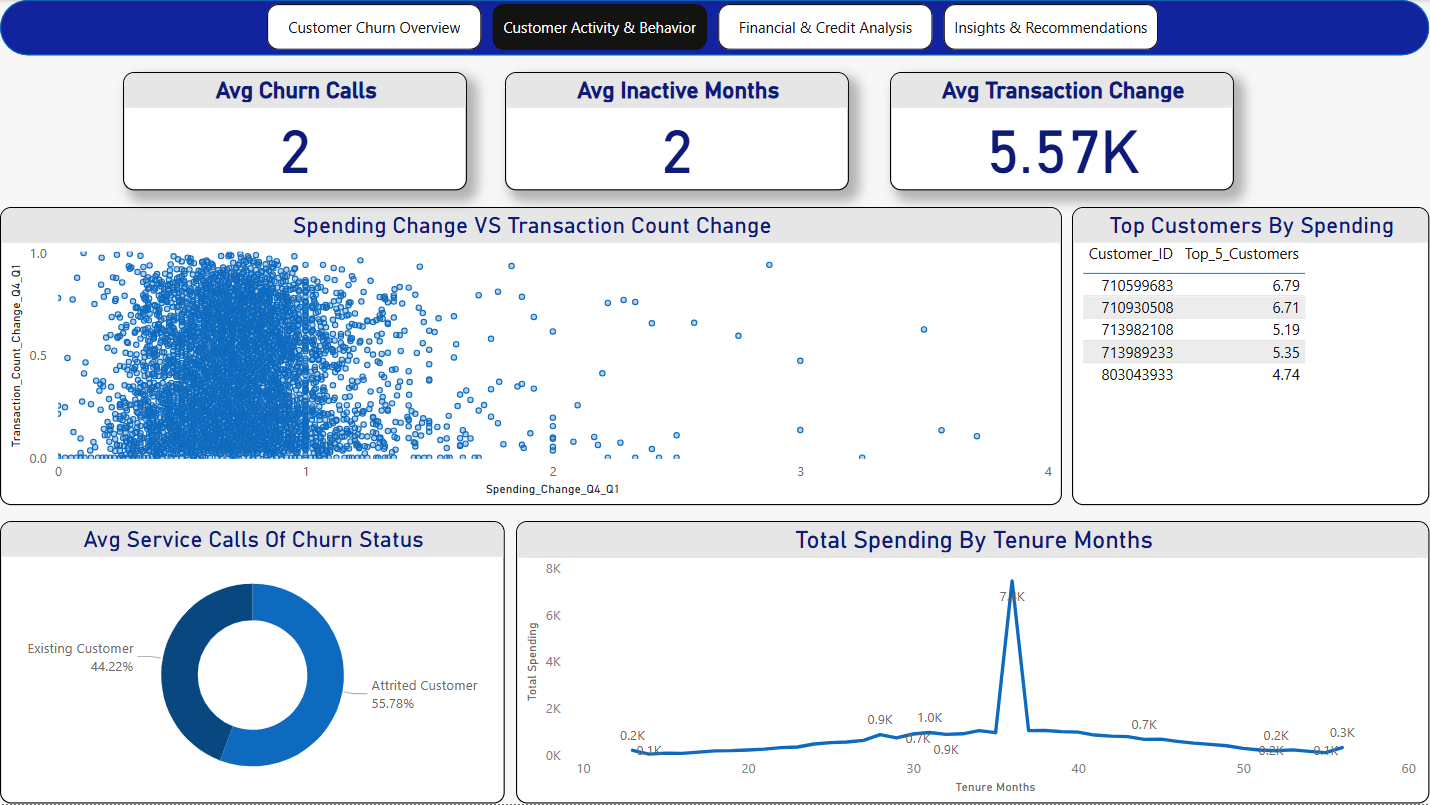

What the dashboard file says about the page in this screenshot:
{"tool":"powerbi","page":{"name":"Customer Activity & Behavior","canvas":[1280,720],"ordinal":1},"visuals":[{"type":"lineChart","title":"Total Spending By Tenure Months","fields":{"Y":["Avg(Tenure_Spending_View.Total_Spending)"],"Category":["Tenure_Spending_View.Tenure_Months"]},"box":[462,466.9,818,252.9],"z":0},{"type":"card","title":"Avg Transaction Change","fields":{"Values":["Sum(AVG_Transaction_Count_Change_Q4_Q1.AVG_Transaction_Count_Change_Q4_Q1)"]},"box":[796.6,64.2,308.3,106],"z":1000},{"type":"card","title":"Avg Inactive Months","fields":{"Values":["Sum(Avg_Inactive_Months_View.Avg_Inactive_Months)"]},"box":[452.3,64.2,308.3,106],"z":2000},{"type":"scatterChart","title":"Spending Change VS Transaction Count Change","fields":{"X":["Q4_q1_View.Spending_Change_Q4_Q1"],"Y":["Q4_q1_View.Transaction_Count_Change_Q4_Q1"]},"box":[0,185.8,951.2,267.5],"z":3000},{"type":"tableEx","title":"Top Customers By Spending","fields":{"Values":["Top_Customers_View.Customer_ID","Top_Customers_View.Top_5_Customers"]},"box":[960,185.8,320,267.5],"z":4000},{"type":"donutChart","title":"Avg Service Calls Of Churn Status","fields":{"Category":["Customer_Info.Churn_Status"],"Y":["Account_Activity.Avg Service Calls"]},"box":[0,466.9,452.3,252.9],"z":5000},{"type":"card","title":"Avg Churn Calls","fields":{"Values":["Sum(Avg_Churn_Calls_View.Avg_Churn_Calls)"]},"box":[109.9,64.2,308.3,106],"z":6000},{"type":"shape","box":[0,0,1280,49.6],"z":7000},{"type":"pageNavigator","box":[239.3,3.9,800.5,41.8],"z":8000}]}

Visuals, with their boxes in screenshot pixels (x1, y1, x2, y2), scaled from the page's 1280x720 canvas onto the 1430x805 screenshot:
"Total Spending By Tenure Months" lineChart: BBox(516, 522, 1429, 804)
"Avg Transaction Change" card: BBox(890, 72, 1234, 190)
"Avg Inactive Months" card: BBox(505, 72, 850, 190)
"Spending Change VS Transaction Count Change" scatterChart: BBox(0, 208, 1063, 507)
"Top Customers By Spending" tableEx: BBox(1072, 208, 1429, 507)
"Avg Service Calls Of Churn Status" donutChart: BBox(0, 522, 505, 804)
"Avg Churn Calls" card: BBox(123, 72, 467, 190)
shape: BBox(0, 0, 1429, 55)
pageNavigator: BBox(267, 4, 1162, 51)
